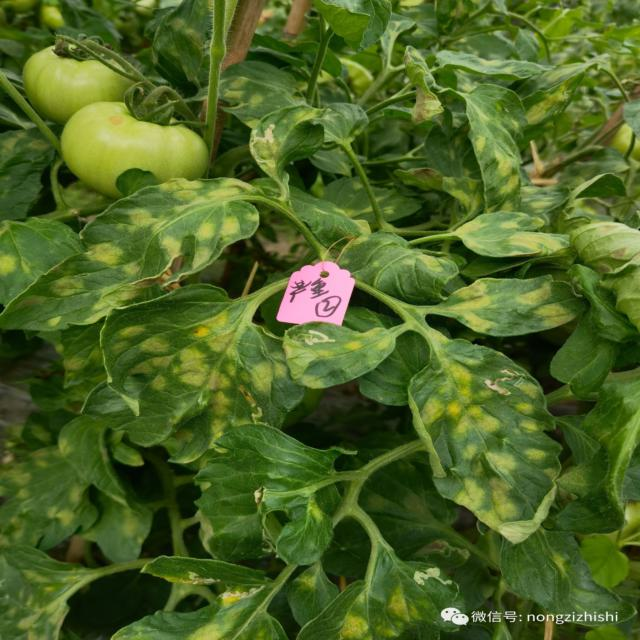Leaf_Mold: (2, 177, 262, 332), (419, 344, 561, 541), (111, 307, 287, 461), (323, 182, 447, 295), (1, 416, 93, 556), (430, 270, 576, 339), (284, 319, 395, 389), (166, 570, 273, 640), (453, 211, 573, 269), (462, 112, 524, 211), (335, 575, 422, 640), (4, 568, 82, 640), (251, 123, 299, 191), (50, 334, 107, 388)
